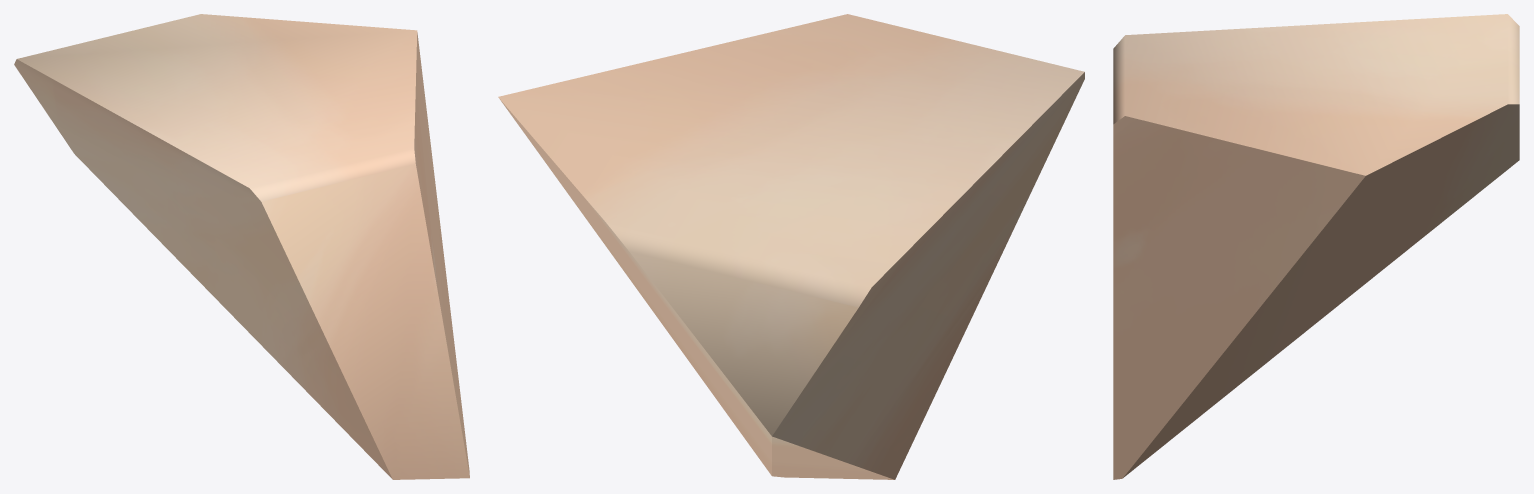
The model's file is Block16.8.fbx.
3 views of the same model, side by side, from view 1: azimuth 30°, elevation 25°; view 2: azimuth 150°, elevation 25°; view 3: azimuth 270°, elevation 25° (orthographic). The views are drawn at different scales.
Visible parts, largest first — view 1: Block16.8; view 2: Block16.8; view 3: Block16.8.
Boxes of the visible parts, x1=… form: Block16.8: x1=14, y1=14, x2=469, y2=479; Block16.8: x1=498, y1=14, x2=1084, y2=479; Block16.8: x1=1113, y1=14, x2=1519, y2=479.
Bounding box in the file's own units: 0.6143 × 0.6019 × 0.6519.
